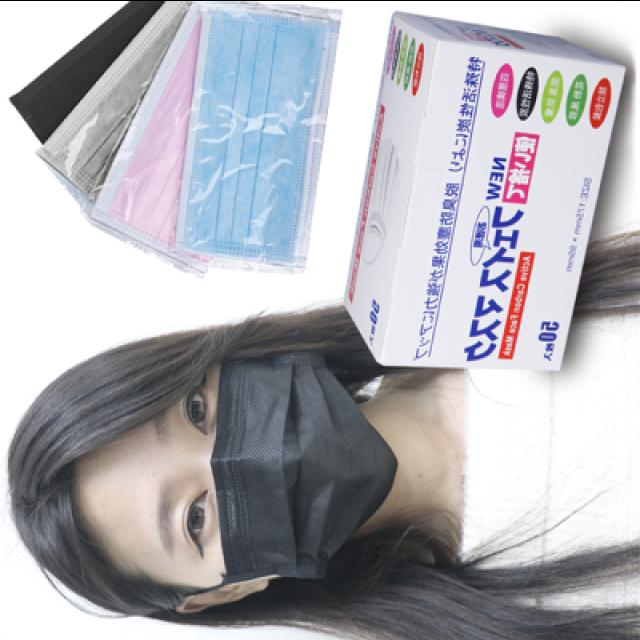with_mask: (146, 344, 400, 594)
